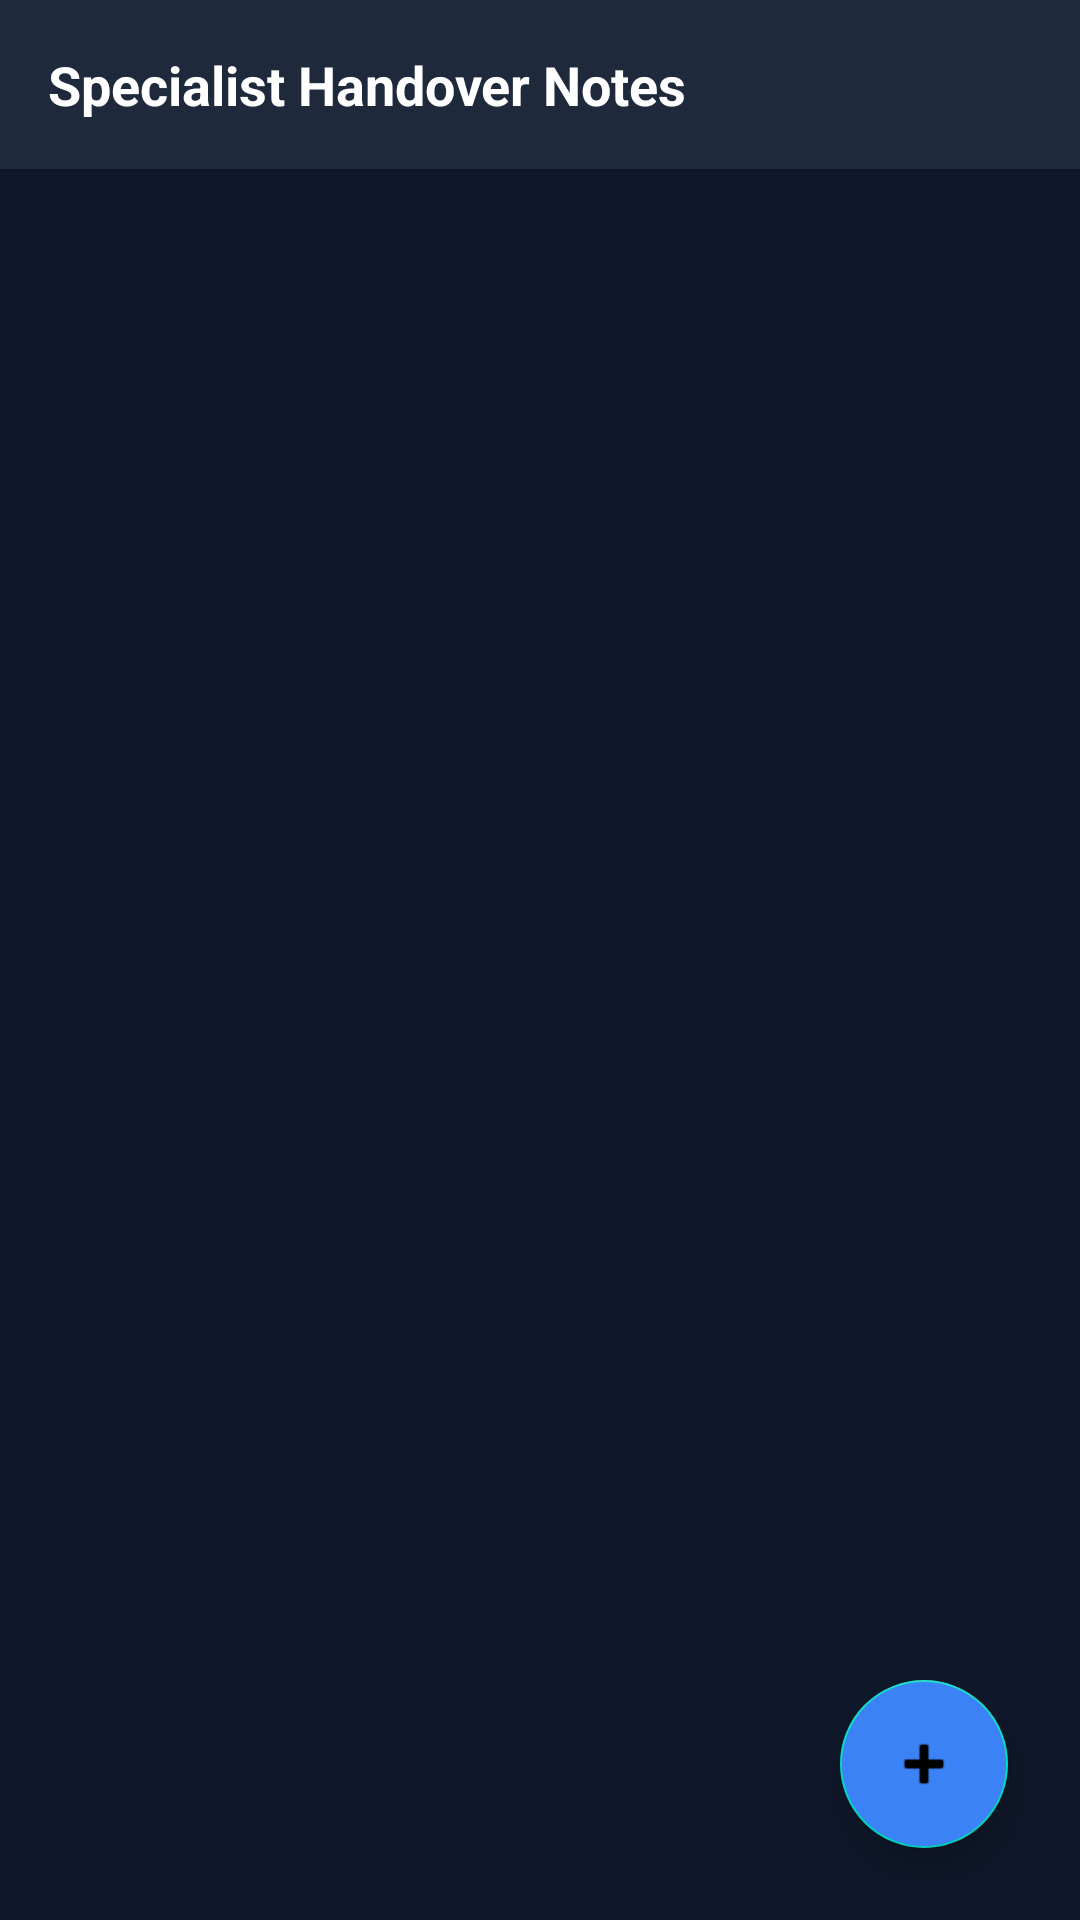

Named icons in this screenshot (1080px x 1920px) and their bounding boxes, {"left": x1, "top": y1, "right": x2, "bottom": y2}:
Add Note: {"left": 840, "top": 1680, "right": 1008, "bottom": 1848}
